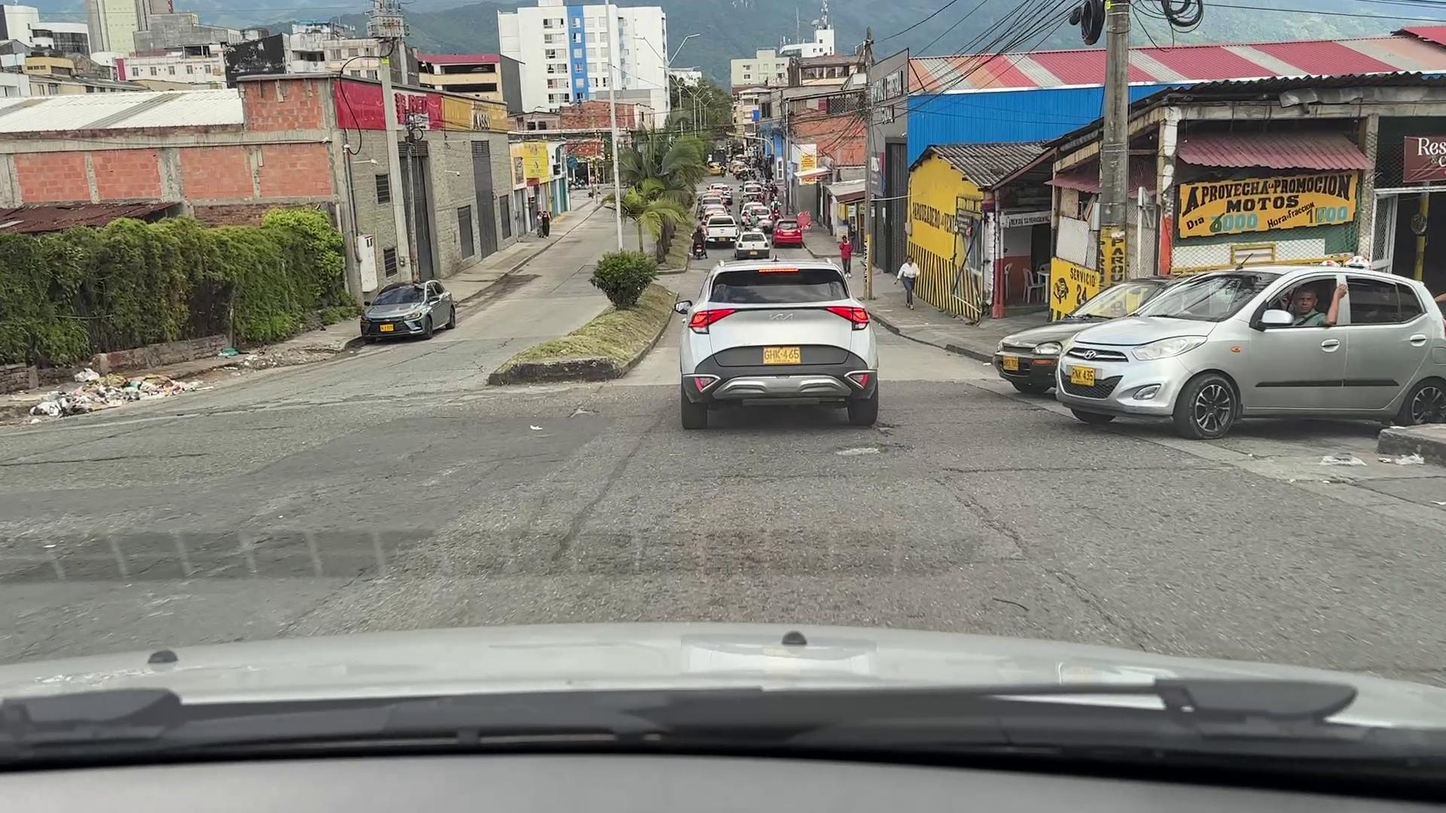bache: (836, 444, 888, 456), (569, 405, 592, 418), (876, 423, 894, 434)
